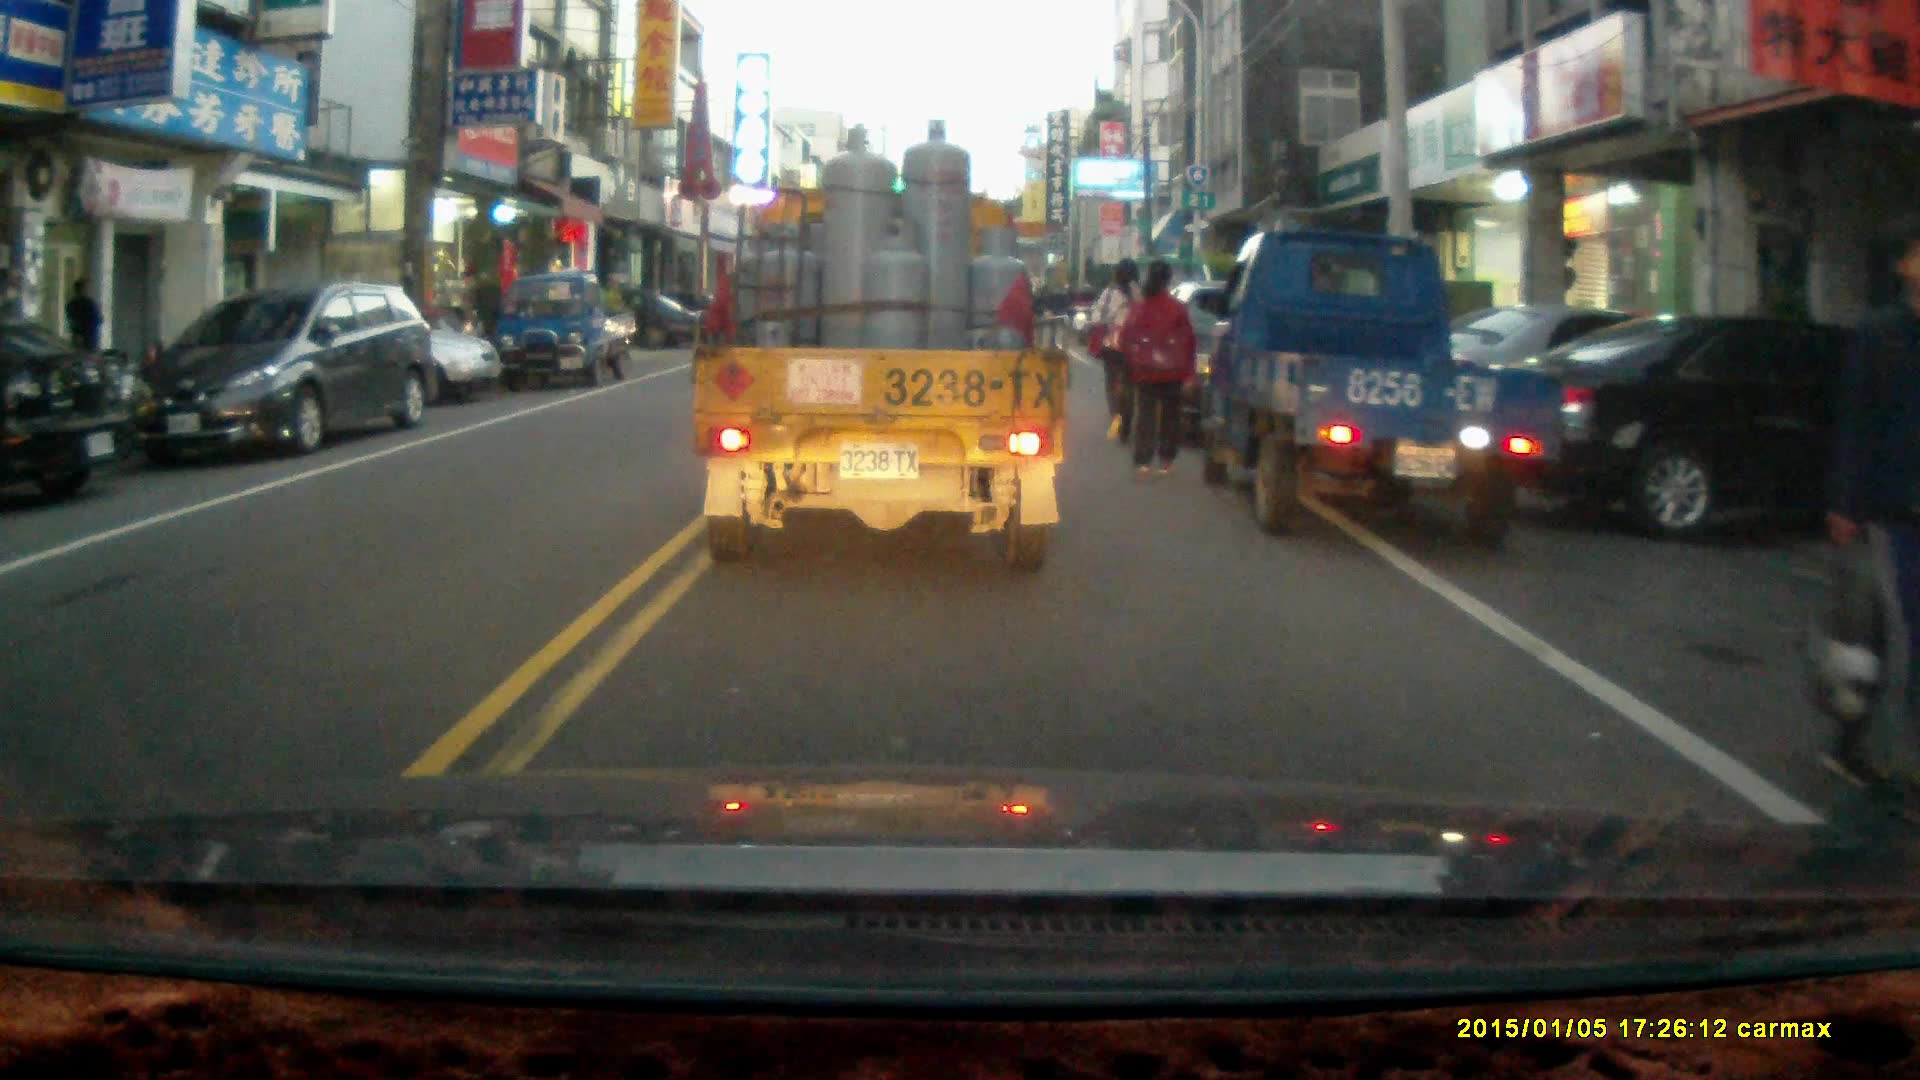pedestrian: (1818, 246, 1920, 821), (1115, 260, 1196, 480), (1089, 255, 1151, 442), (57, 273, 103, 390)
rider: (1067, 282, 1096, 344)
vehicle: (688, 117, 1072, 579), (1197, 228, 1565, 551), (124, 281, 437, 464), (240, 292, 503, 410), (1, 320, 139, 509), (491, 273, 631, 393)
